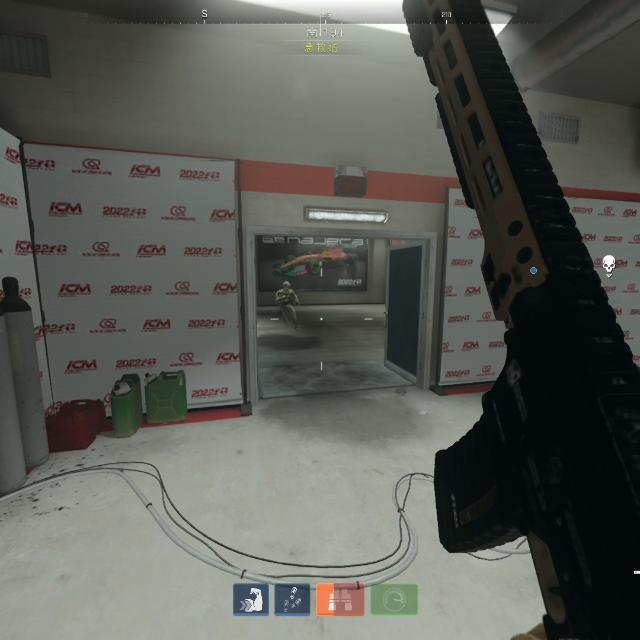MW2_body: (271, 280, 303, 327)
